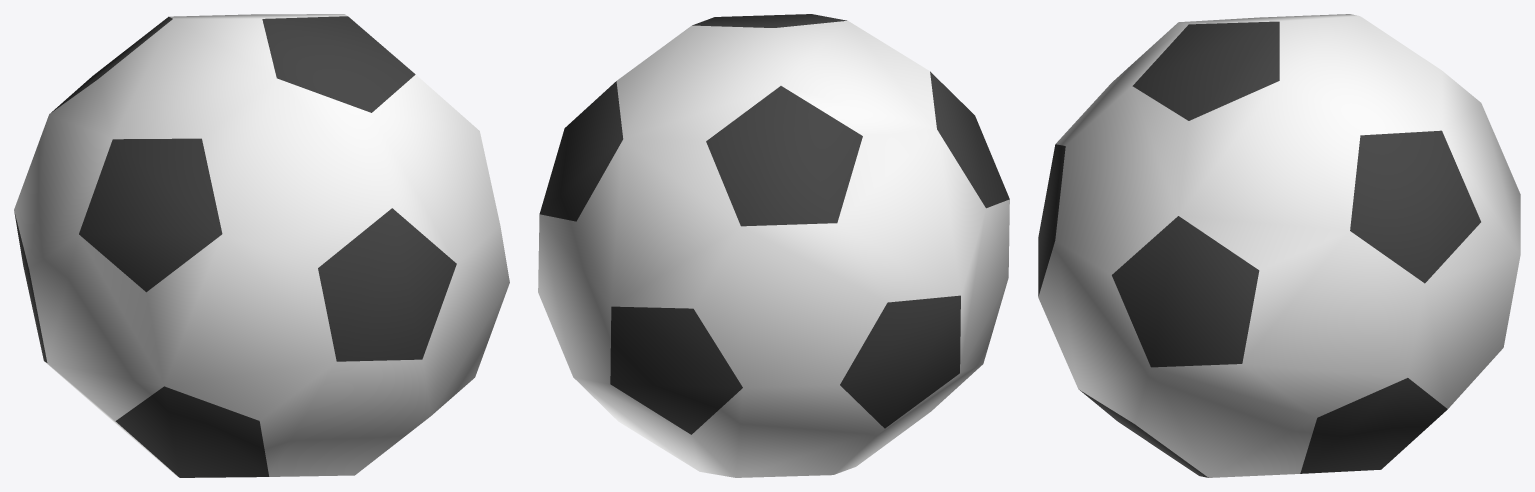
3 views of the same model, side by side, from view 1: azimuth 30°, elevation 25°; view 2: azimuth 150°, elevation 25°; view 3: azimuth 270°, elevation 25° (orthographic). The views are drawn at different scales.
Parts seen in each view (by area): view 1: toy_003; view 2: toy_003; view 3: toy_003.
Boxes of the visible parts, left/top/right/bottom form: toy_003: left=14, top=14, right=509, bottom=477; toy_003: left=538, top=14, right=1009, bottom=477; toy_003: left=1038, top=14, right=1520, bottom=477.
Size of the model in its own units: 0.2354 by 0.2388 by 0.2323.
1 material, 1 textured.
